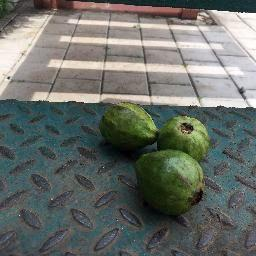guava: (131, 146, 206, 219), (99, 96, 159, 151), (159, 111, 210, 166)
